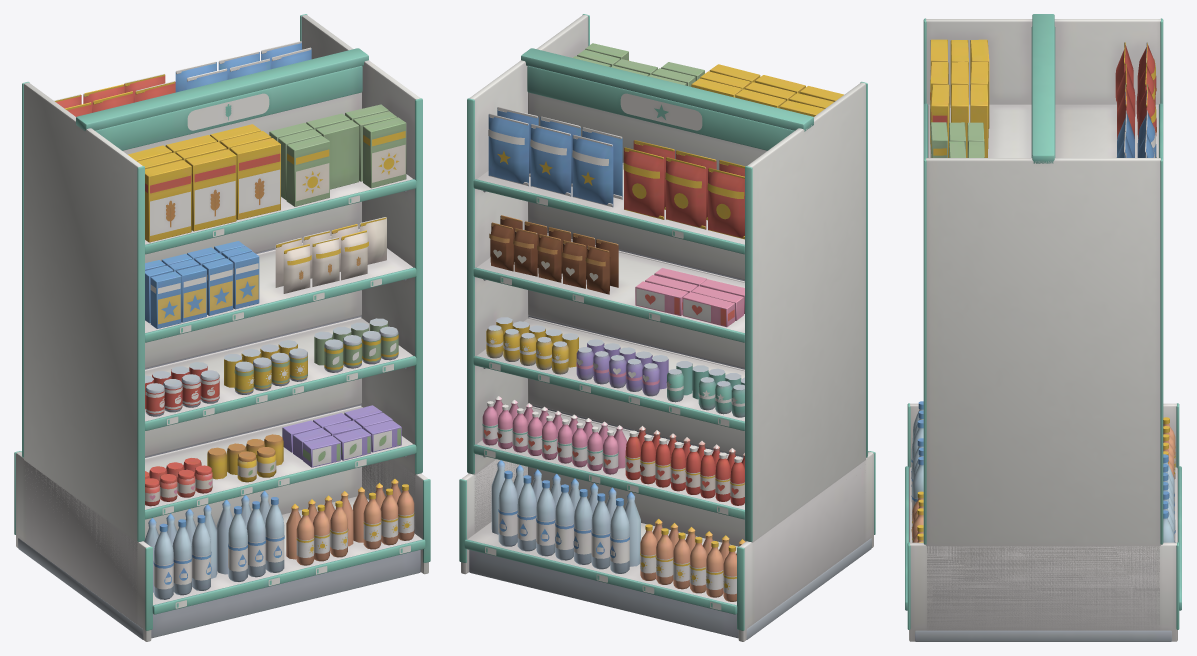
The model's file is g3-grocery-shelf.glb.
3 renders of one model, left to right at view 1: azimuth 30°, elevation 25°; view 2: azimuth 150°, elevation 25°; view 3: azimuth 270°, elevation 25°, orthographic. The views are drawn at different scales.
Visible parts, largest first — view 1: grocery-shelf_body; view 2: grocery-shelf_body; view 3: grocery-shelf_body.
Boxes of the visible parts, box(x1,y1,x2,y2) form: grocery-shelf_body: box(14, 14, 430, 641); grocery-shelf_body: box(459, 14, 875, 641); grocery-shelf_body: box(905, 14, 1181, 641).
Bounding box in the file's own units: 1.26 × 2 × 1.04.
Materials: 1 (1 with a texture image).
